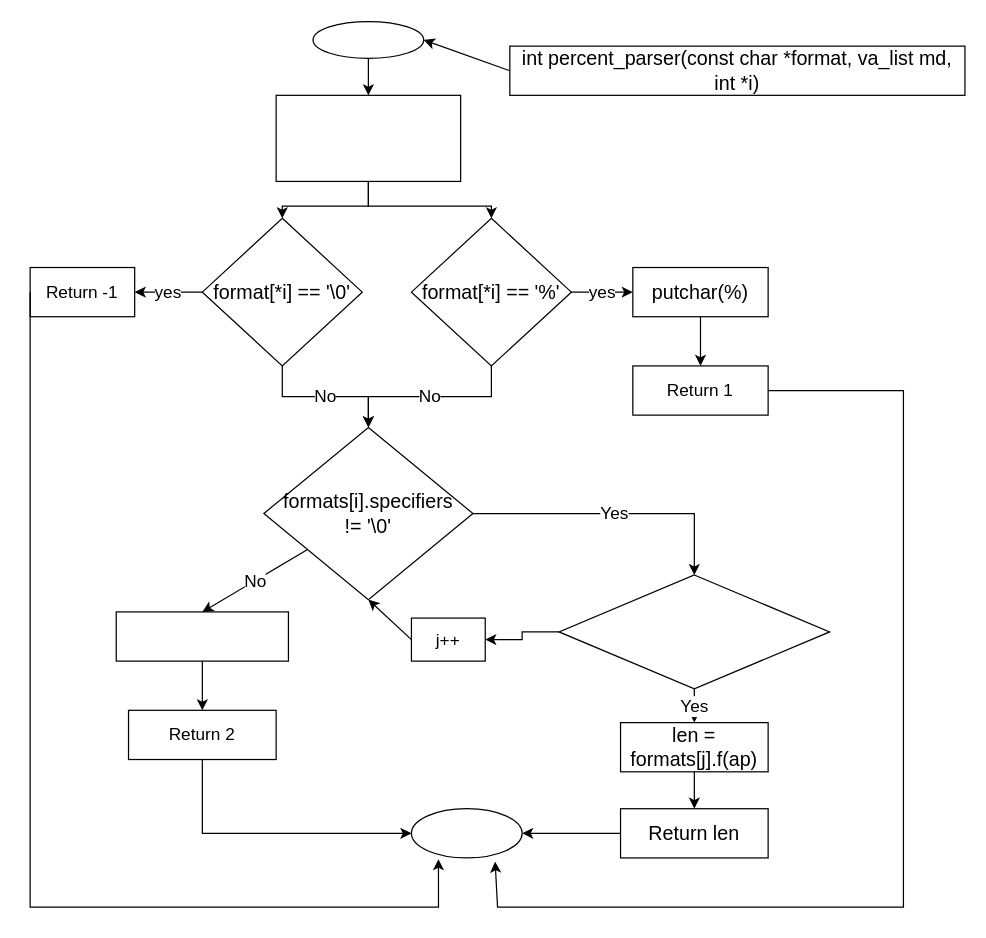
The diagram is 986 pixels wide and 938 high, and some of its shapes have lost their labels. Here are the shapes that lost their labels. From the top down, the centre of each, then its label:
(x=368, y=39): begin
(x=368, y=137): int len, j; the_format formats[]; *i = *i + 1;
(x=201, y=636): putchar('%') putchar(format[*i])
(x=694, y=631): format[*i] == formats[j]. specifiers
(x=466, y=832): end
